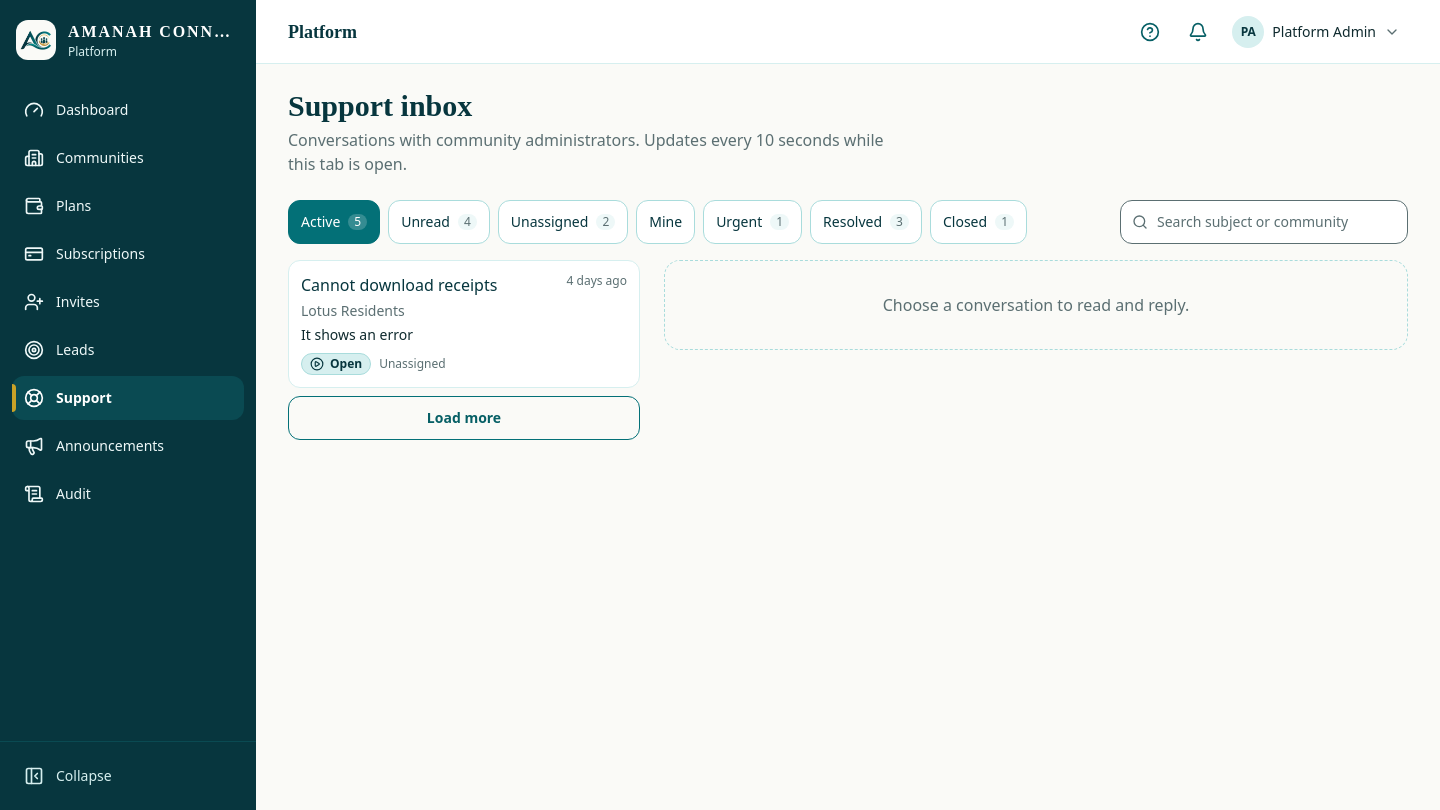
Test: Support inbox › pages the list with "Load more"
Click the button "Load more" at (464,418), box 288,396 -> 640,440
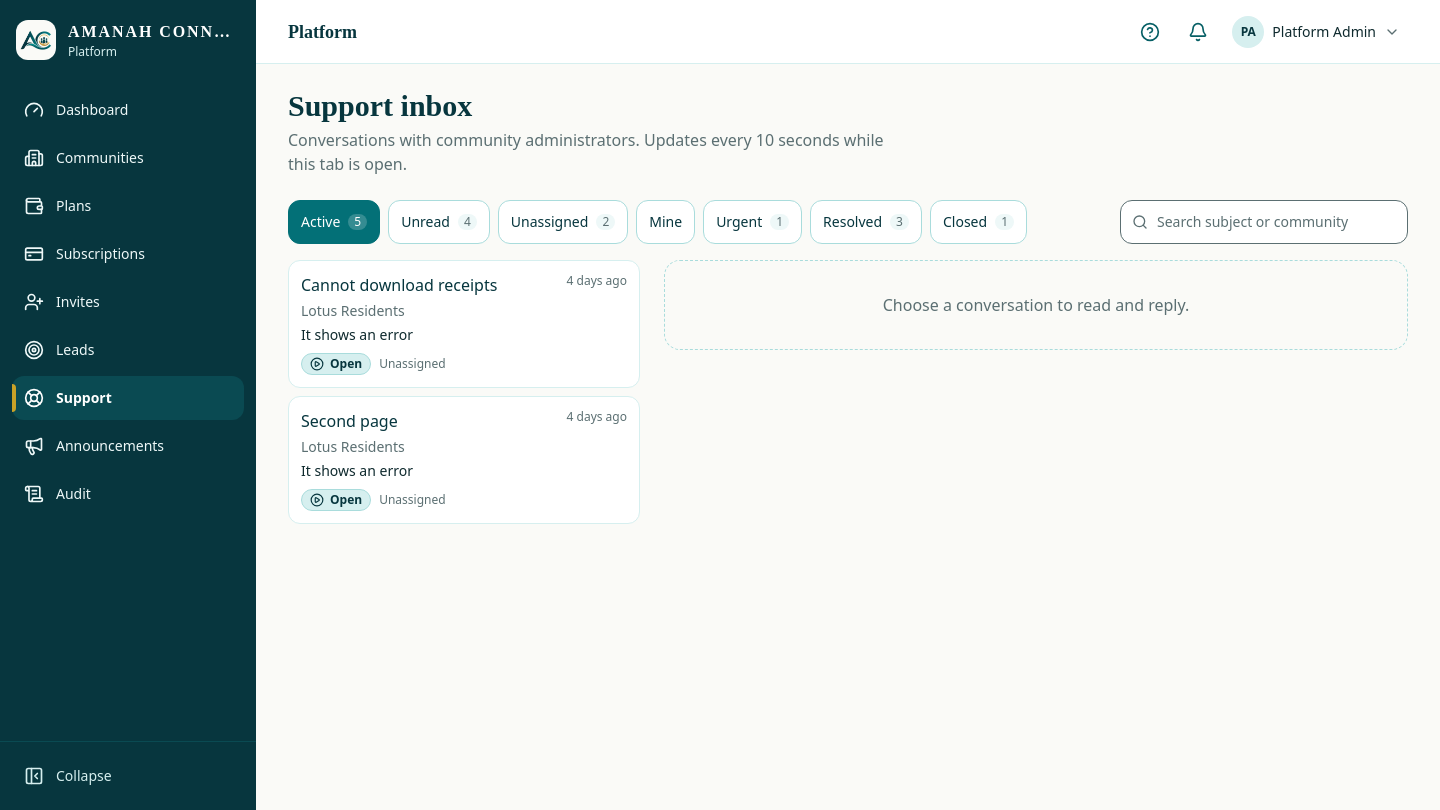
Expected: the text "Cannot download receipts" is shown, 301,273 -> 497,297
Expected: the text "Second page" is shown, 301,409 -> 398,433
